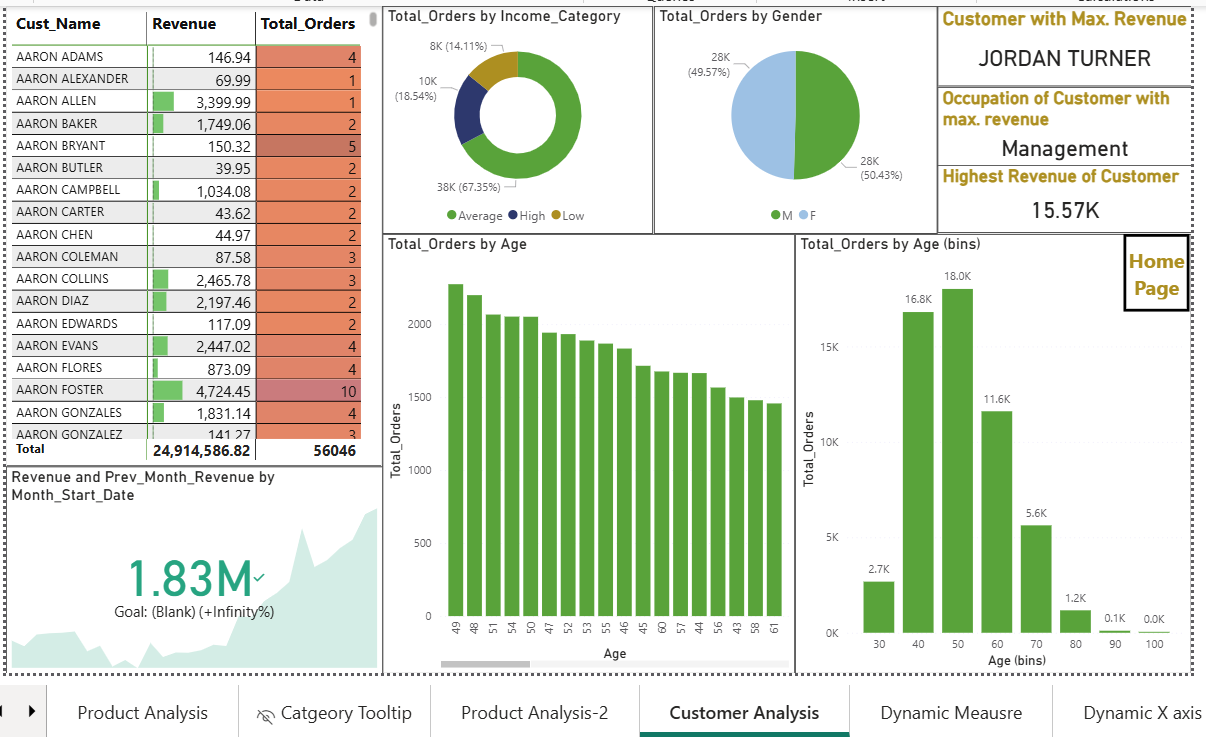

The dashboard page shown, as its layout file describes it:
{"tool":"powerbi","page":{"name":"Customer Analysis","canvas":[1280,720],"ordinal":7},"visuals":[{"type":"pivotTable","fields":{"Rows":["Customers.Cust_Name"],"Values":["Sales.Revenue","Sales.Total_Orders"]},"box":[0,0,407.2,496.5],"z":0},{"type":"pieChart","fields":{"Category":["Customers.Gender"],"Y":["Sales.Total_Orders"]},"box":[699.5,0,305.7,245.8],"z":1000},{"type":"donutChart","fields":{"Category":["Customers.Income_Category"],"Y":["Sales.Total_Orders"]},"box":[407.2,0,292.3,245.8],"z":2000},{"type":"card","title":"Customer with Max. Revenue","fields":{"Values":["Min(Customers.Cust_Name)"]},"box":[1005.2,0,275.1,86.8],"z":3000},{"type":"card","title":"Occupation of Customer with max. revenue","fields":{"Values":["Min(Customers.Occupation)"]},"box":[1005.2,86.8,275.1,85.6],"z":4000},{"type":"card","title":"Highest Revenue of Customer","fields":{"Values":["Sales.Revenue"]},"box":[1005.2,172.4,275.1,73.4],"z":5000},{"type":"kpi","fields":{"Goal":["Sales.Prev_Month_Revenue"],"Indicator":["Sales.Revenue"],"TrendLine":["Sales.Month_Start_Date"]},"box":[0,496.5,407.2,223.8],"z":6000},{"type":"clusteredColumnChart","fields":{"Category":["Customers.Age"],"Y":["Sales.Total_Orders"]},"box":[407.2,245.8,445.1,474.5],"z":7000},{"type":"clusteredColumnChart","fields":{"Category":["Customers.Age (bins)"],"Y":["Sales.Total_Orders"]},"box":[852.3,245.8,428,474.5],"z":8000},{"type":"actionButton","box":[1206.2,246.2,71.2,83.8],"z":9000}]}

Visuals, with their boxes in screenshot pixels (x1, y1, x2, y2):
pivotTable - Customers.Cust_Name x Sales.Revenue: [left=0, top=3, right=378, bottom=464]
pieChart - Customers.Gender x Sales.Total_Orders: [left=650, top=3, right=934, bottom=232]
donutChart - Customers.Income_Category x Sales.Total_Orders: [left=378, top=3, right=650, bottom=232]
"Customer with Max. Revenue" card: [left=934, top=3, right=1190, bottom=84]
"Occupation of Customer with max. revenue" card: [left=934, top=84, right=1190, bottom=163]
"Highest Revenue of Customer" card: [left=934, top=163, right=1190, bottom=232]
kpi - Sales.Prev_Month_Revenue x Sales.Revenue: [left=0, top=464, right=378, bottom=672]
clusteredColumnChart - Customers.Age x Sales.Total_Orders: [left=378, top=232, right=792, bottom=672]
clusteredColumnChart - Customers.Age (bins) x Sales.Total_Orders: [left=792, top=232, right=1190, bottom=672]
actionButton: [left=1121, top=232, right=1187, bottom=310]
